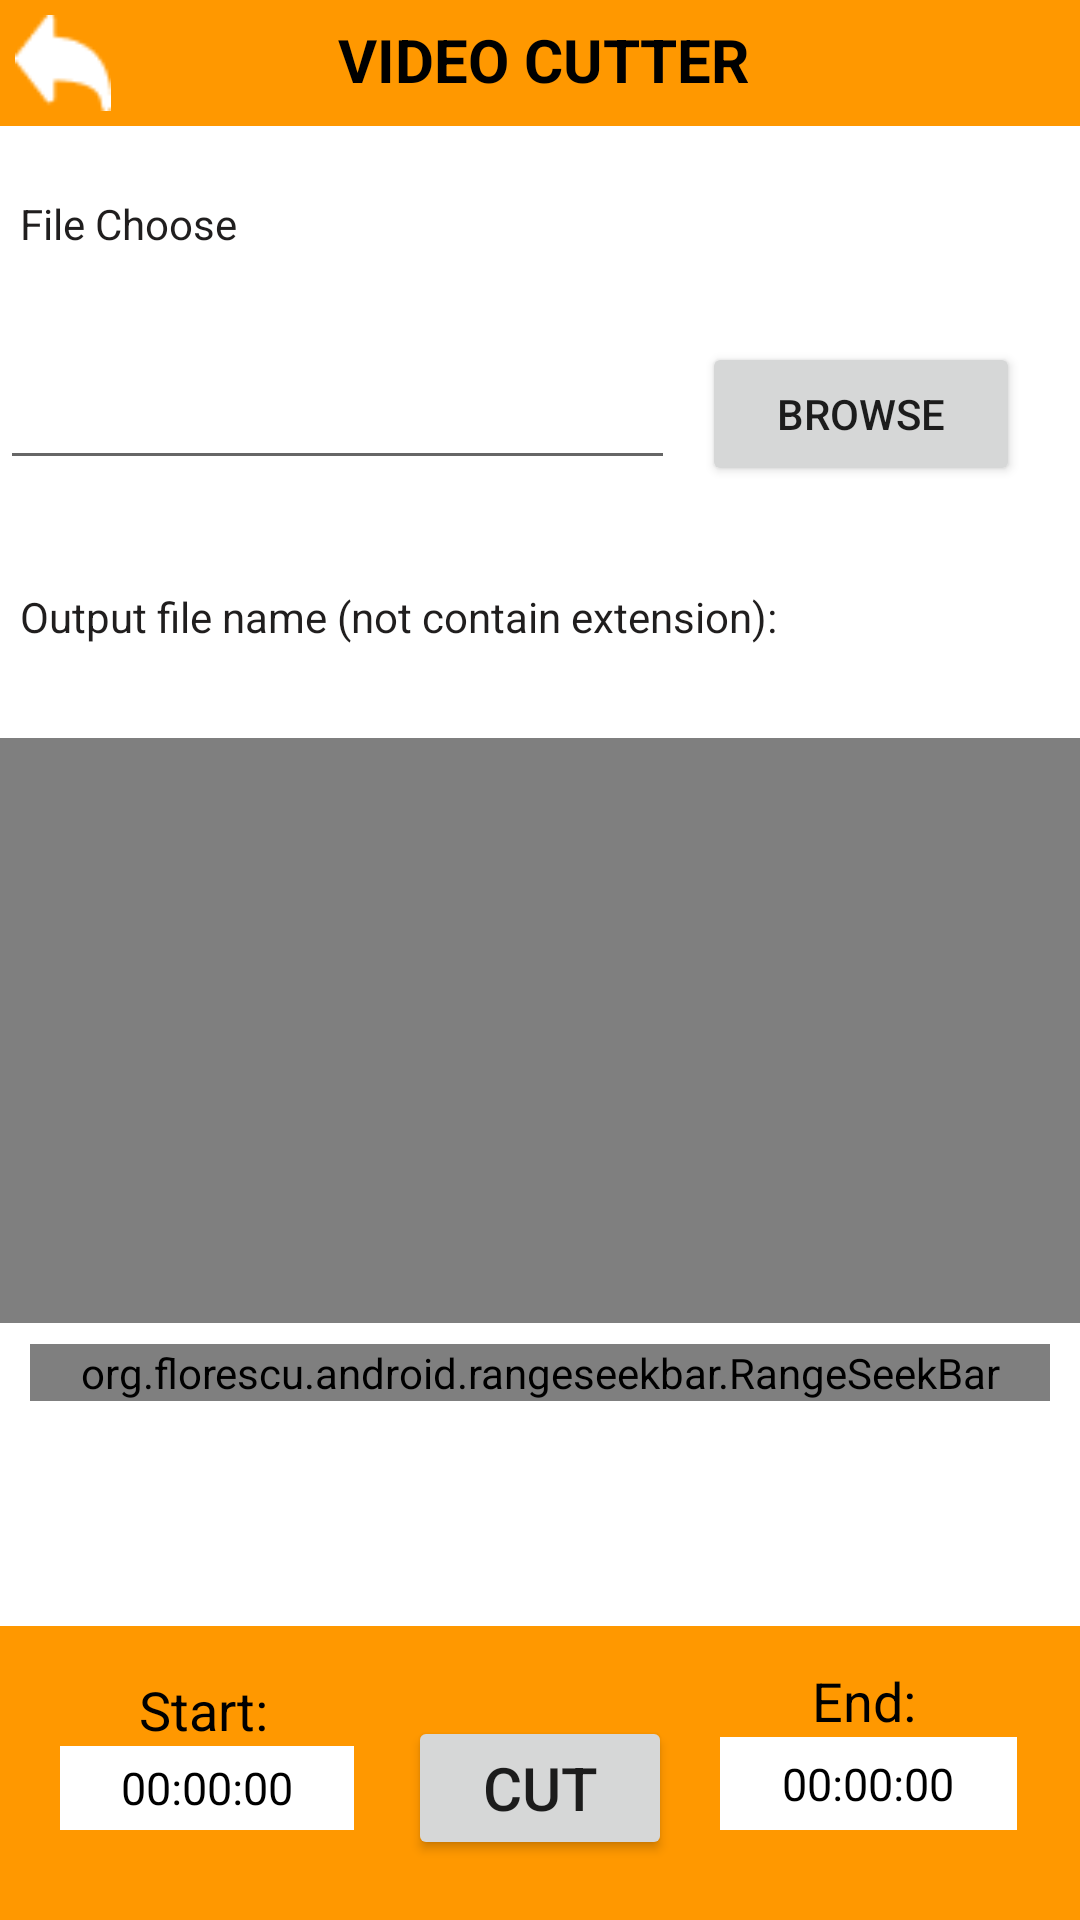

Point at icon controls on the screen. Image size 1080 x 1920, points as (x=x, y=y).
back: (x=63, y=63)
